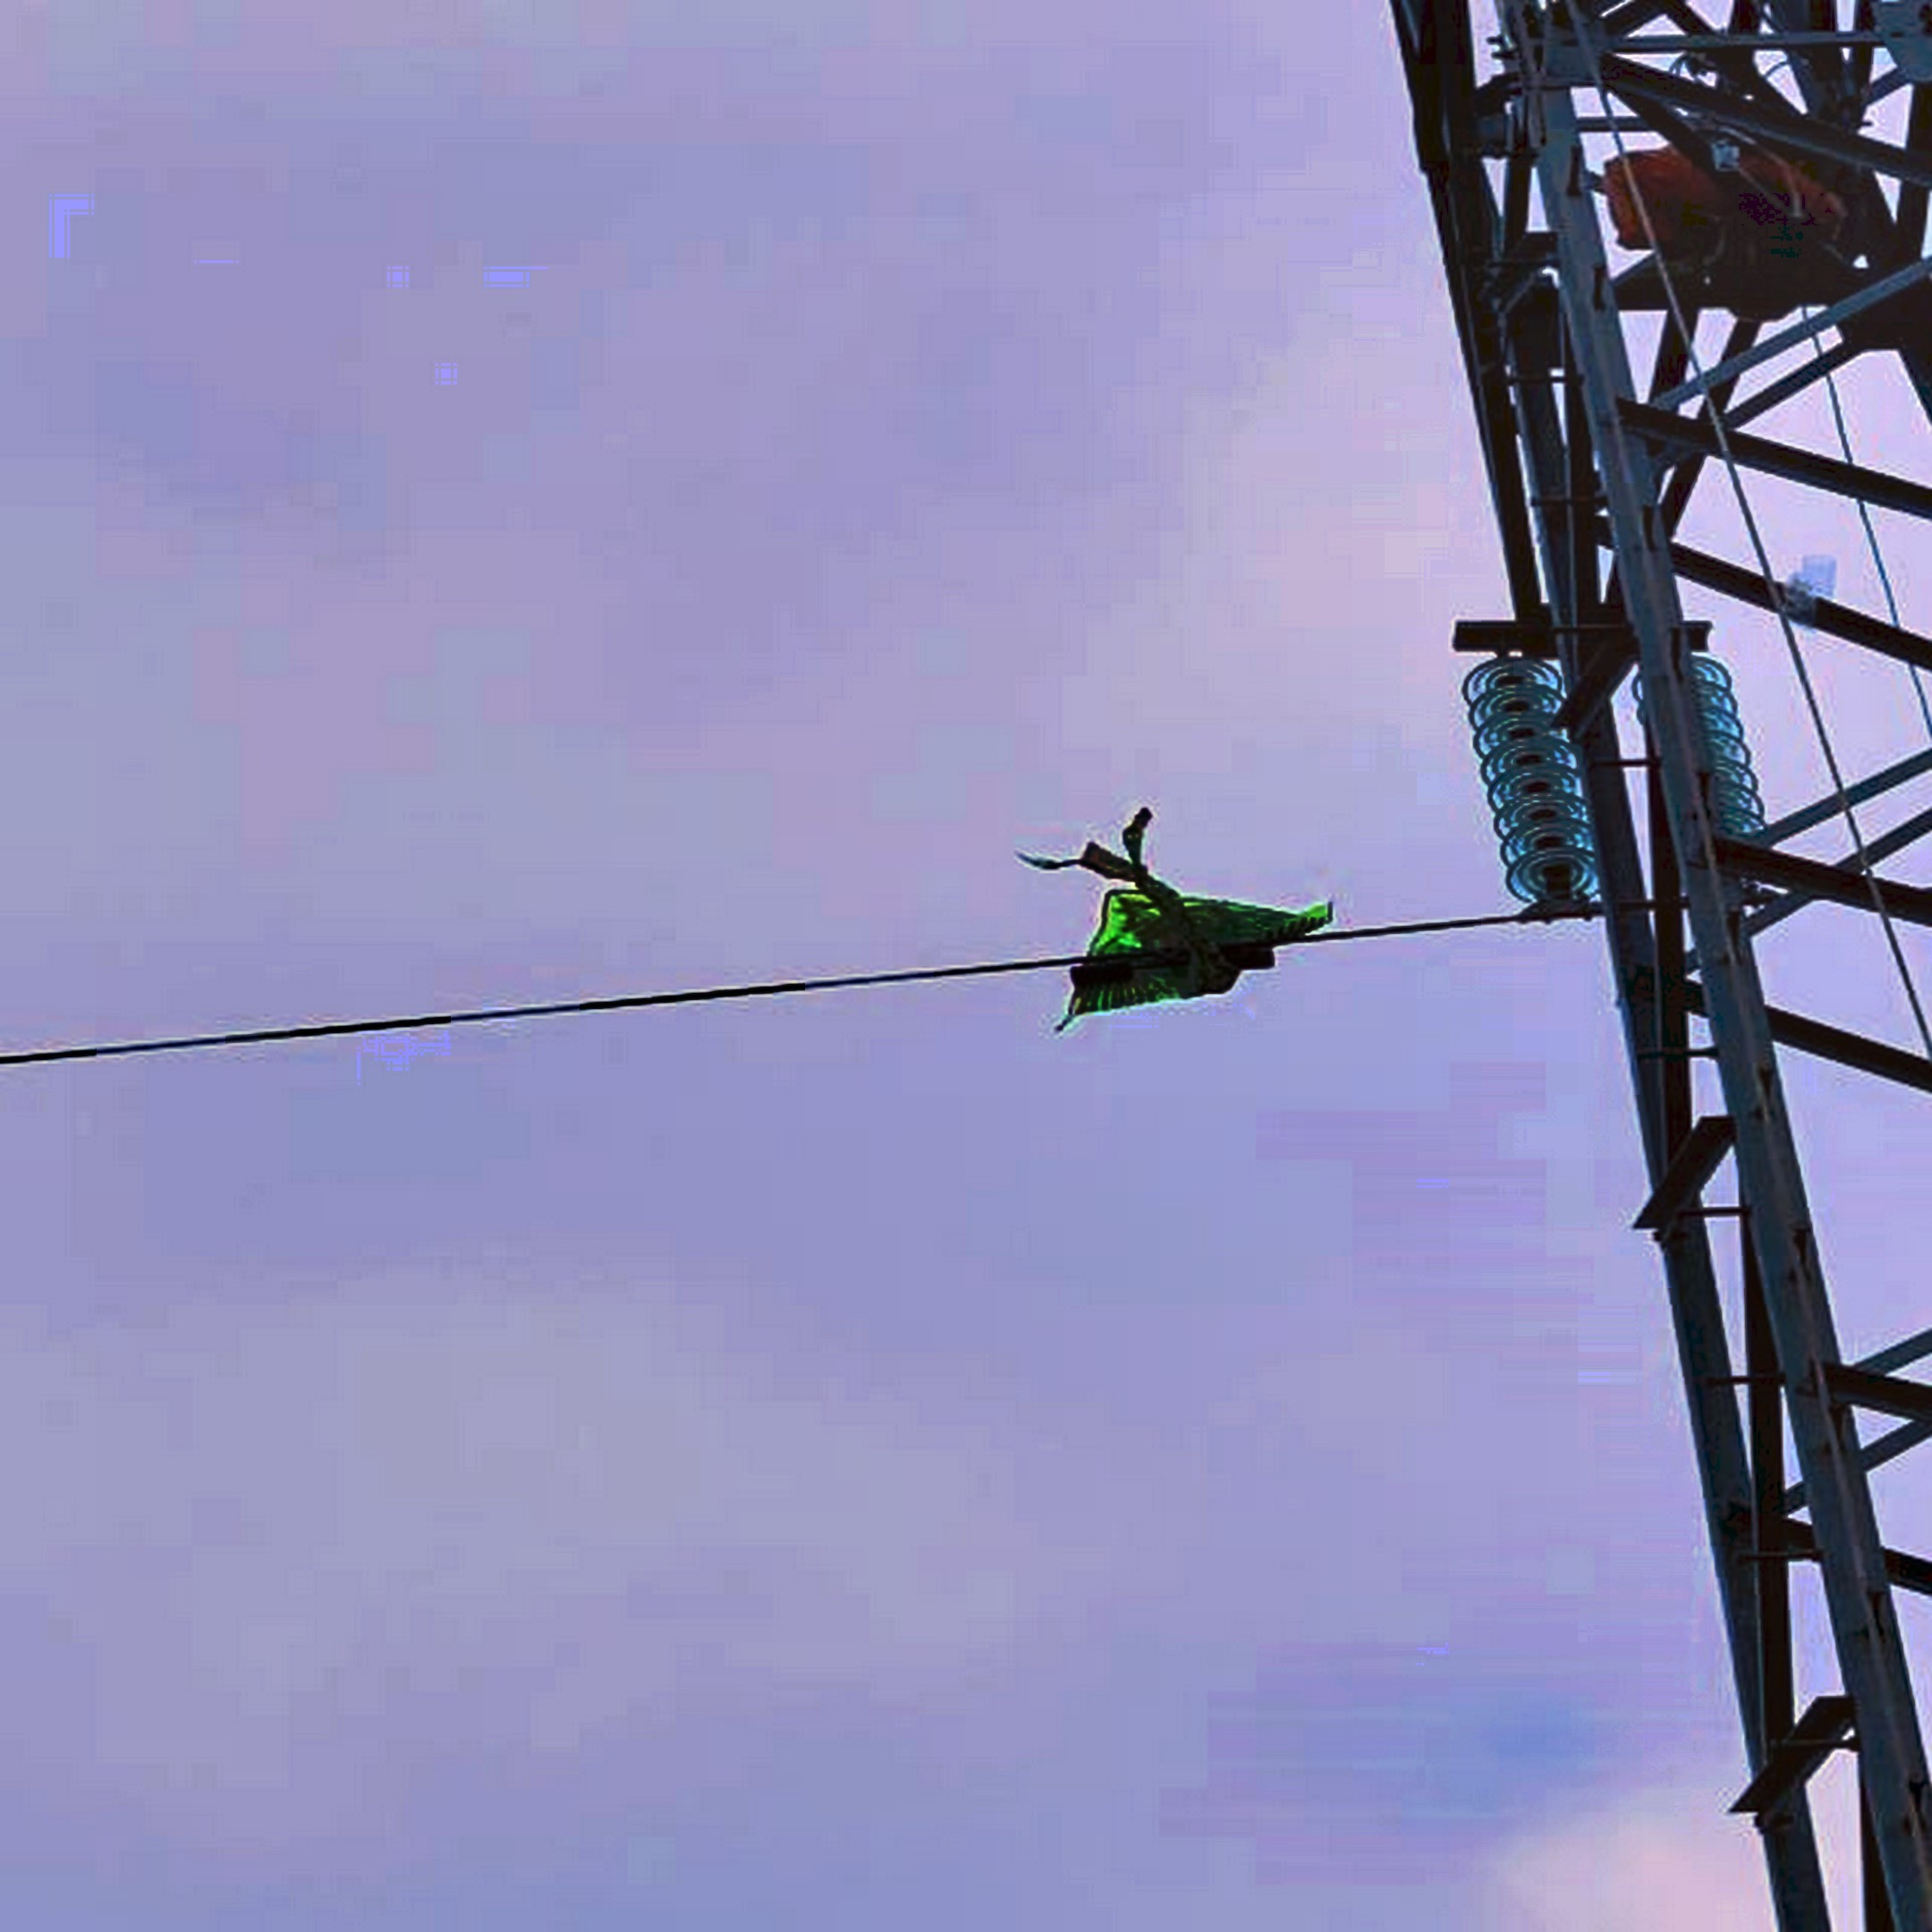wire foreign body: (1033, 812, 1362, 1081)
